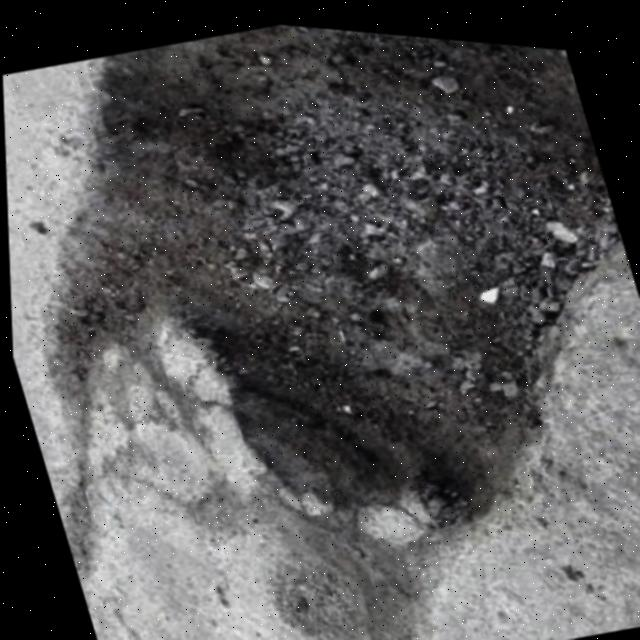Pothole: (0, 0, 640, 628)
